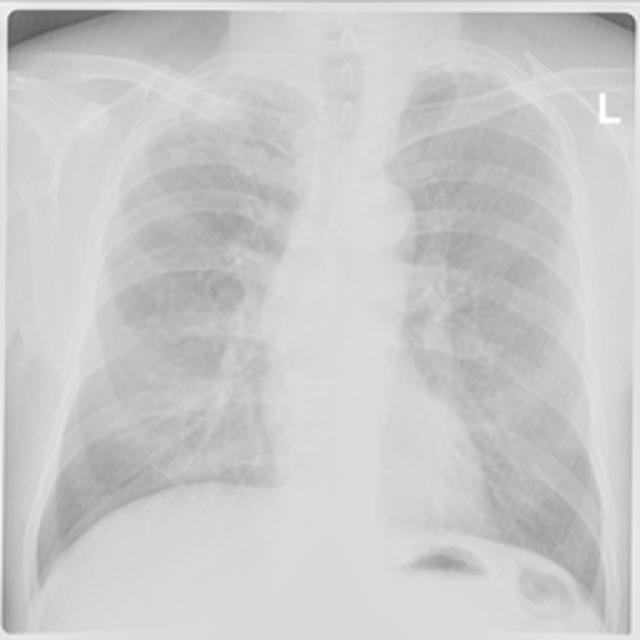diaphragm: (37, 479, 607, 640)
heart: (257, 178, 486, 548)
left_lobe: (380, 64, 612, 626)
right_lobe: (32, 76, 300, 602)
